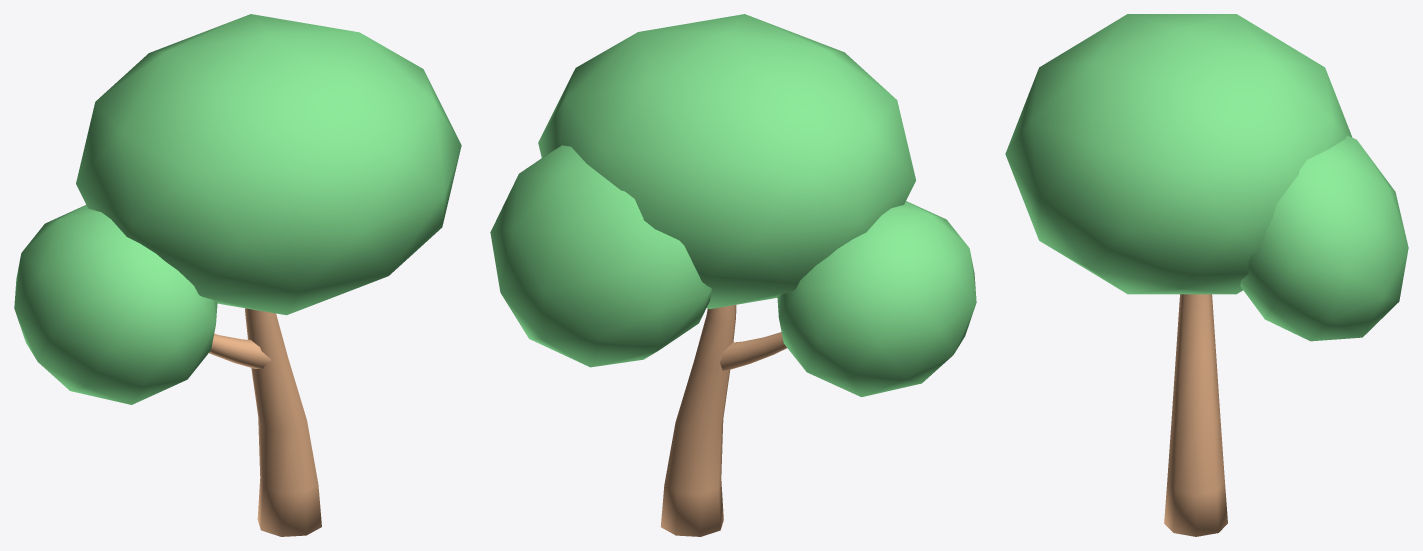
File: Pohon_1.fbx
3 views of the same model, side by side, from view 1: azimuth 30°, elevation 25°; view 2: azimuth 150°, elevation 25°; view 3: azimuth 270°, elevation 25° (orthographic). The views are drawn at different scales.
Visible parts, largest first — view 1: Tree 2; view 2: Tree 2; view 3: Tree 2.
Part boxes in pixels (left/top/right/bottom): Tree 2: left=14, top=14, right=461, bottom=536; Tree 2: left=490, top=14, right=976, bottom=536; Tree 2: left=1005, top=14, right=1408, bottom=536.
Size of the model in its own units: 1014 by 1211 by 922.
